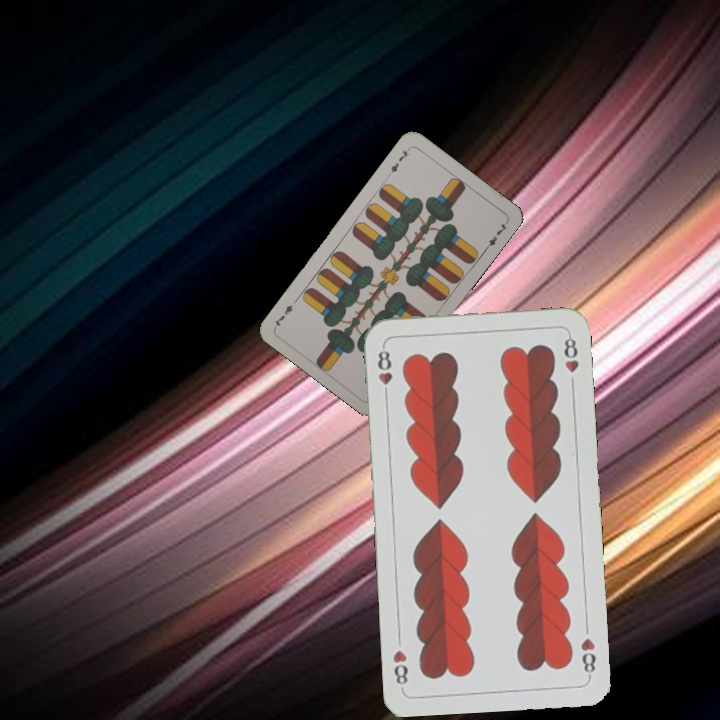E7: (384, 144, 412, 179)
H8: (374, 342, 395, 401), (576, 634, 598, 680)
